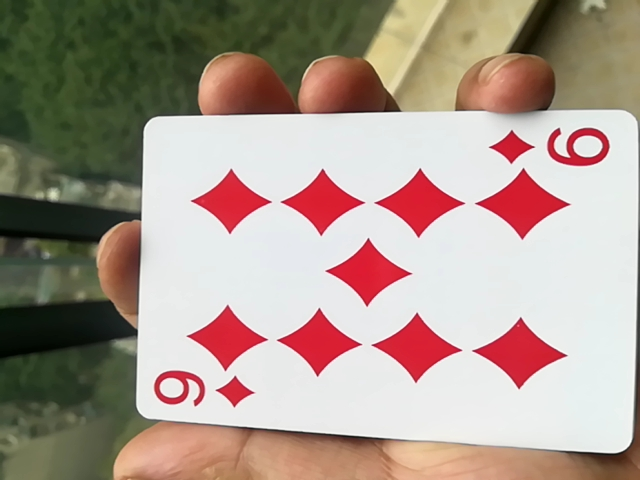fk 9: (121, 114, 639, 457)
